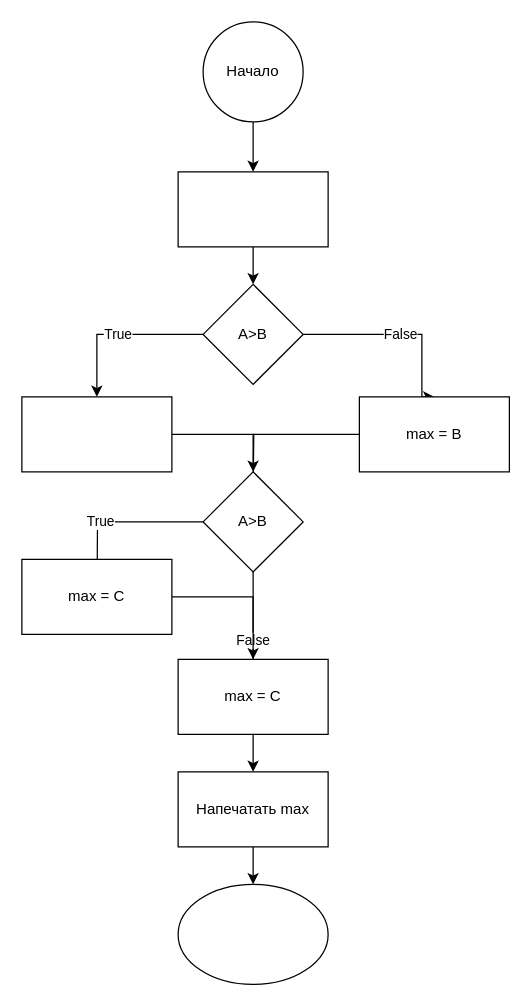
Some shapes in this 531 by 1006 pixel diagram are drawn without their labels. The box of each missing label's shape, as (x1, y1, x2, y2) in pixels:
max = A: (21, 396, 172, 472)
Конец: (177, 883, 328, 984)
Объявление A,B,C: (177, 171, 328, 247)
